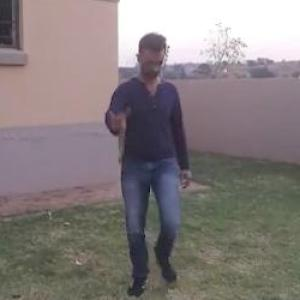takeoff-hand: (102, 97, 132, 136)
